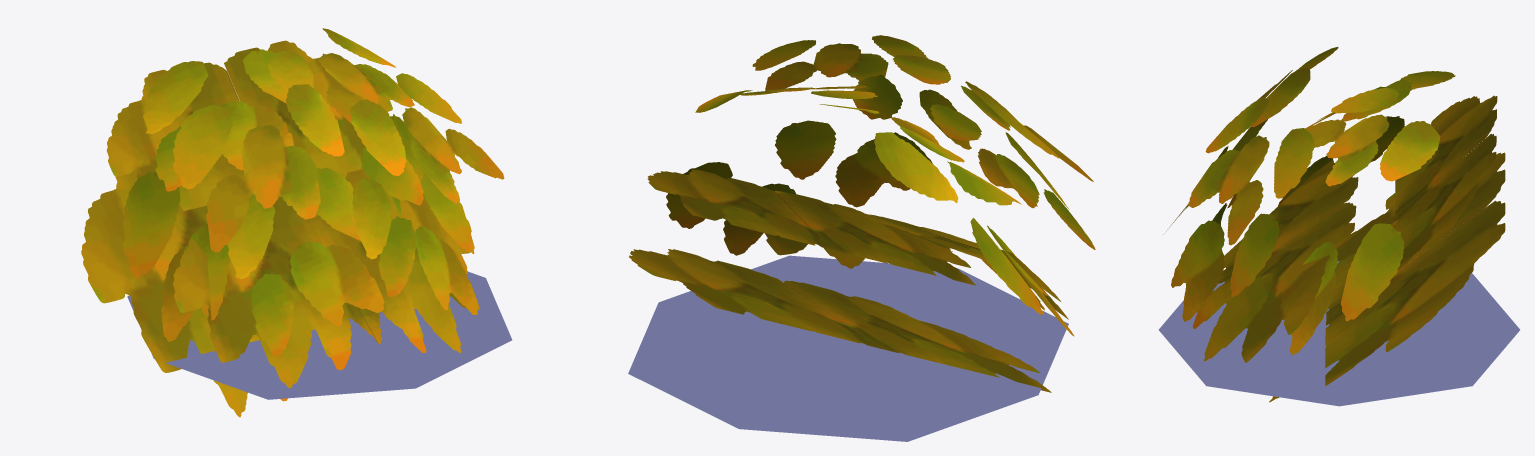
Rendered from fg_bushB_2_wt.fbx.
3 renders of one model, left to right at view 1: azimuth 30°, elevation 25°; view 2: azimuth 150°, elevation 25°; view 3: azimuth 270°, elevation 25°, orthographic. The views are drawn at different scales.
Parts seen in each view (by area): view 1: fg_bushB_2_wt, sdw_circle; view 2: fg_bushB_2_wt, sdw_circle; view 3: fg_bushB_2_wt, sdw_circle.
Part boxes in pixels (box(x1,y1,x2,y2)): fg_bushB_2_wt: box(81, 28, 504, 417); sdw_circle: box(127, 271, 512, 399); fg_bushB_2_wt: box(629, 35, 1095, 392); sdw_circle: box(628, 255, 1068, 441); fg_bushB_2_wt: box(1163, 47, 1505, 402); sdw_circle: box(1158, 261, 1519, 406).
Size of the model in its own units: 0.1351 by 0.1133 by 0.1209.
